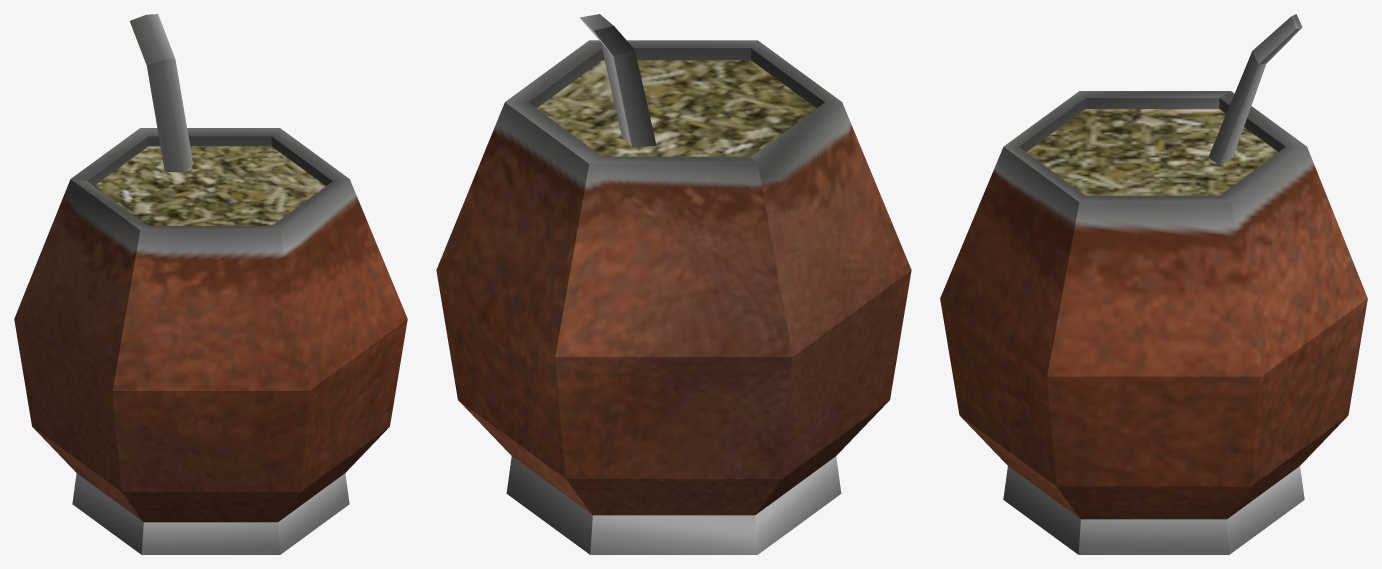
The model's file is MateV0.1.fbx.
3 views of the same model, side by side, from view 1: azimuth 30°, elevation 25°; view 2: azimuth 150°, elevation 25°; view 3: azimuth 270°, elevation 25° (orthographic). The views are drawn at different scales.
Visible parts, largest first — view 1: MAte; view 2: MAte; view 3: MAte.
Part boxes in pixels (x1,y1,x2,y2): MAte: (14,14,407,554); MAte: (436,14,911,554); MAte: (940,14,1367,554).
Bounding box in the file's own units: 0.6185 × 0.8973 × 0.7142.
1 material, 1 textured.
